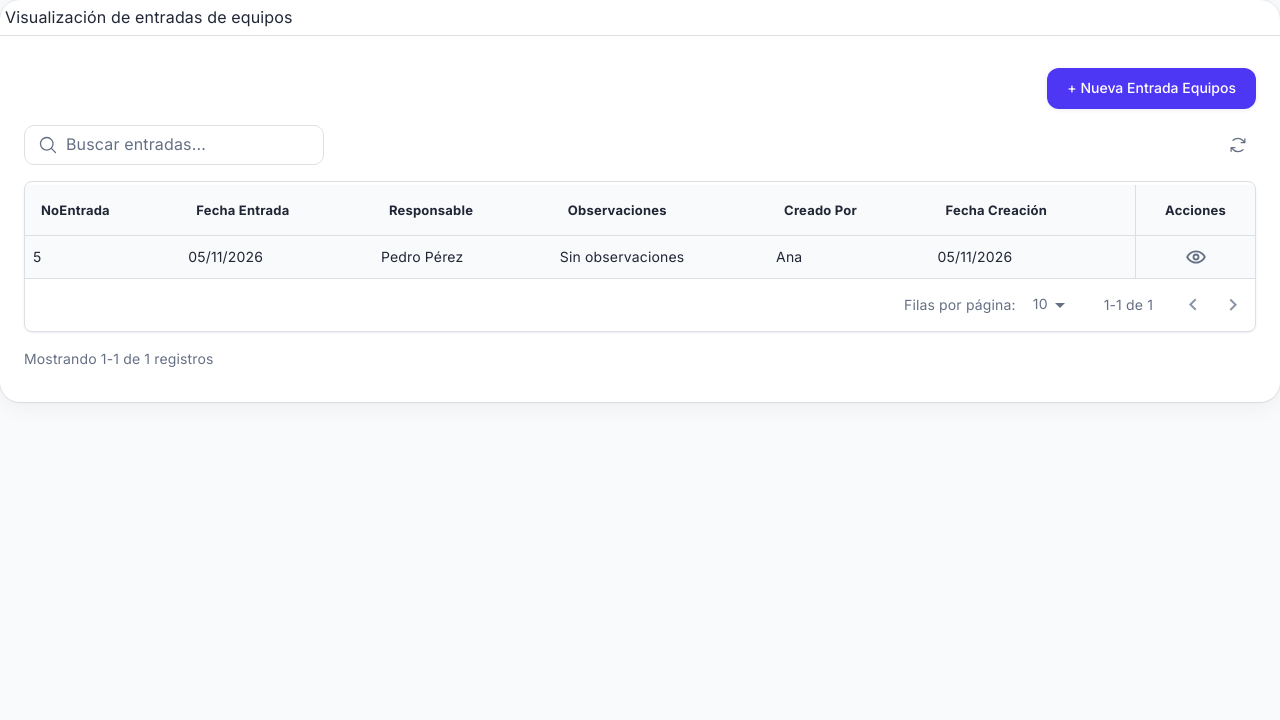
Test: Listado de entradas de equipos › lista, abre el detalle de un movimiento y lo cierra
This screenshot has width=1280, height=720.
expect the text "Sin observaciones" is shown: met, box [560, 248, 684, 265]
expect the button "+ Nueva Entrada Equipos" is shown: met, box [1047, 68, 1256, 109]
Click the 3rd button: x=1196, y=257 [1180, 242, 1210, 272]
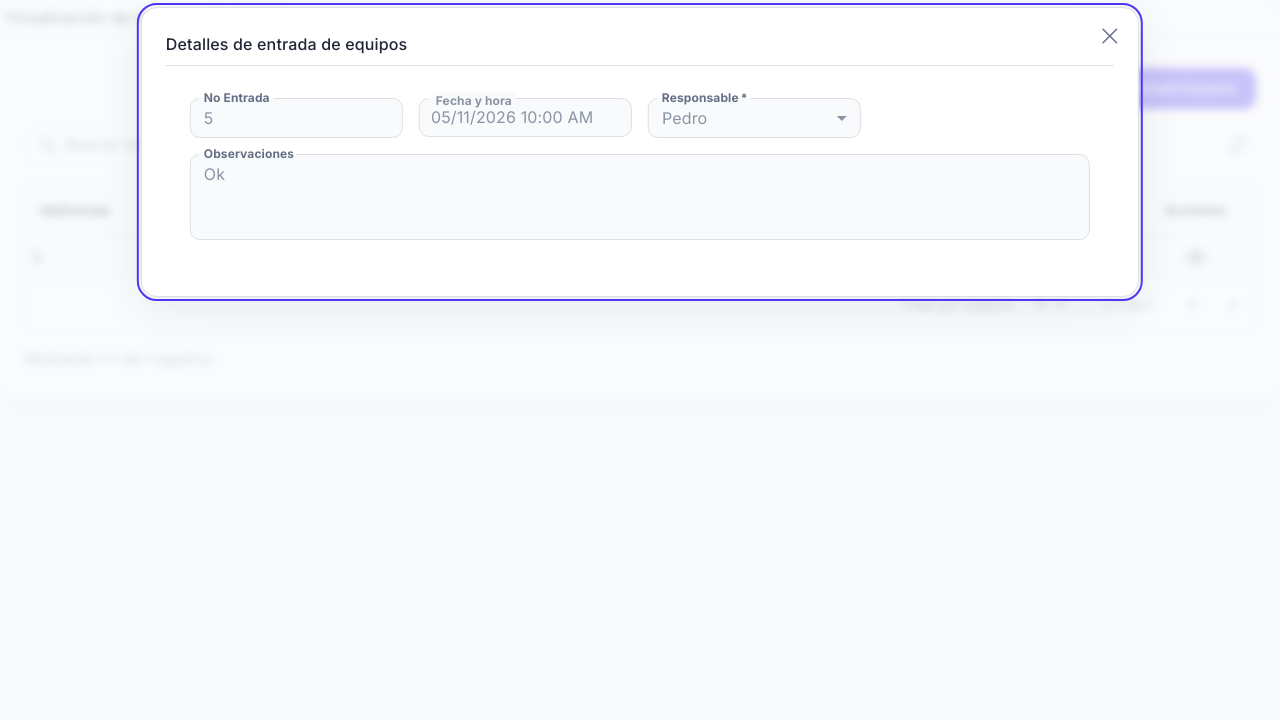
expect the heading "Detalles de entrada de equipos" is shown: met, box [166, 34, 407, 54]
Click the button: x=1110, y=36 [1090, 16, 1130, 56]
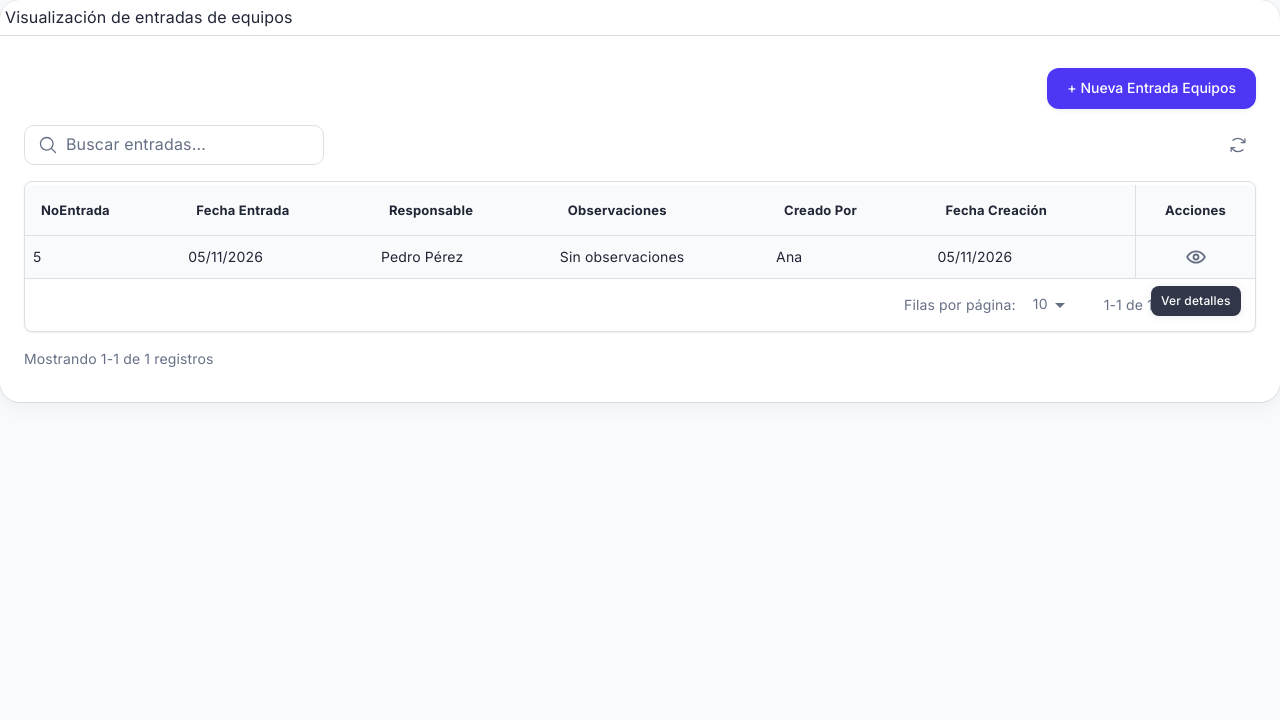
expect the heading "Detalles de entrada de equipos" is gone: met
